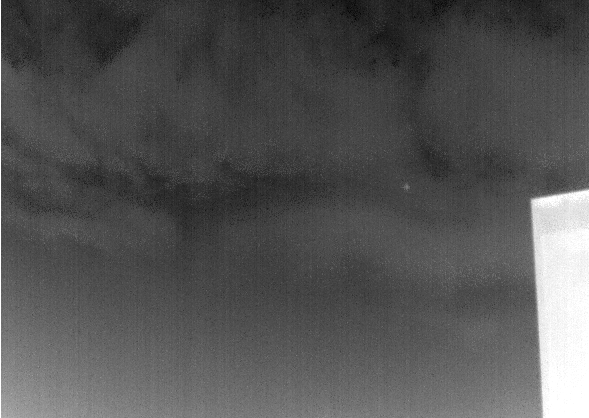dim target: (402, 183, 411, 192)
